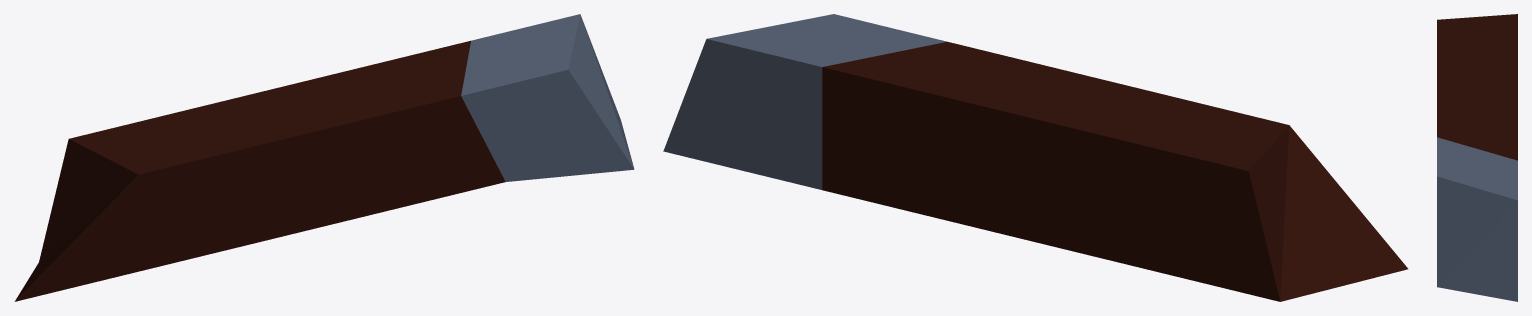
File: Wreckage_3.fbx
The picture shows the model from 3 angles, left to right: view 1: azimuth 30°, elevation 25°; view 2: azimuth 150°, elevation 25°; view 3: azimuth 270°, elevation 25°; orthographic projection. The views are drawn at different scales.
Visible parts, largest first — view 1: Wreckage_3; view 2: Wreckage_3; view 3: Wreckage_3.
Part boxes in pixels (bbox=[...]): Wreckage_3: bbox=[14, 14, 634, 301]; Wreckage_3: bbox=[663, 14, 1408, 301]; Wreckage_3: bbox=[1437, 14, 1517, 301].
Size of the model in its own units: 15.24 by 2.58 by 2.18.
